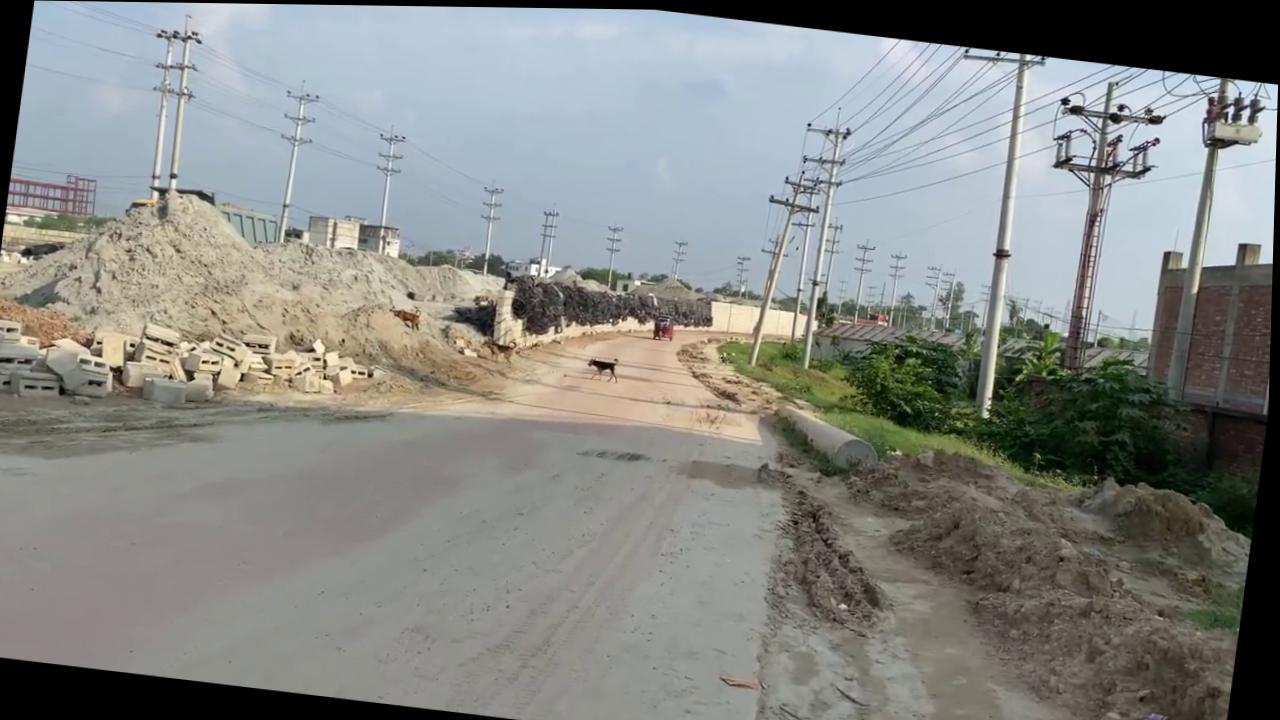Animal: (587, 351, 622, 380), (482, 335, 518, 362), (392, 304, 424, 329)
Broken-road: (0, 238, 1180, 720)
Garbage: (0, 295, 381, 436)
Garbage-bin: (653, 311, 677, 338)
Obstacle: (40, 339, 120, 399), (9, 366, 65, 399), (143, 373, 191, 406)
Pole: (970, 53, 1040, 416)
Tree: (123, 180, 285, 247), (0, 318, 122, 406), (125, 180, 217, 224), (503, 252, 561, 283)
